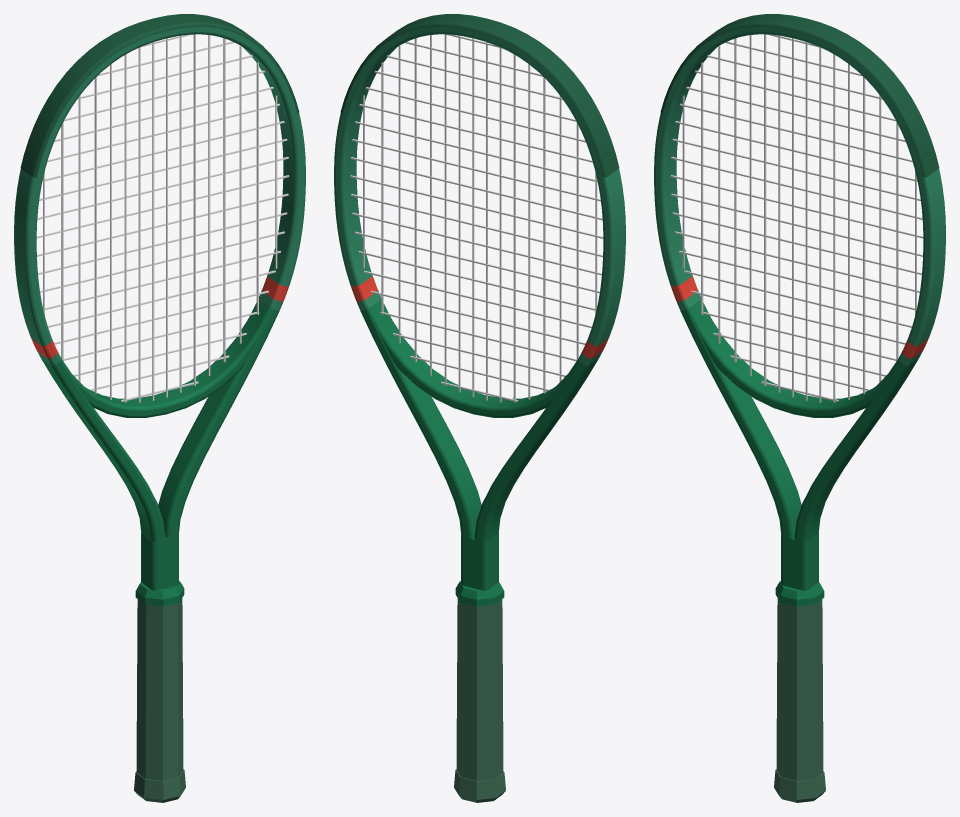
Rendered from wilson-blade-pro-100-v10.glb.
The picture shows the model from 3 angles, left to right: view 1: azimuth 30°, elevation 25°; view 2: azimuth 150°, elevation 25°; view 3: azimuth 330°, elevation 25°; orthographic projection.
Visible parts, largest first — view 1: frame, strings_mains, strings_crosses, grip, bumper, butt_cap, collar; view 2: frame, strings_mains, strings_crosses, grip, bumper, butt_cap, collar; view 3: frame, strings_mains, strings_crosses, grip, bumper, butt_cap, collar.
Boxes of the visible parts, x1,y1,x2,y2 form: frame: [14, 27, 305, 590]; strings_mains: [43, 34, 277, 402]; strings_crosses: [36, 34, 289, 401]; grip: [136, 598, 183, 780]; bumper: [20, 14, 299, 177]; butt_cap: [134, 769, 185, 802]; collar: [135, 581, 184, 606]; frame: [334, 27, 625, 590]; strings_mains: [363, 34, 597, 402]; strings_crosses: [350, 34, 603, 402]; grip: [456, 598, 503, 780]; bumper: [340, 14, 619, 177]; butt_cap: [454, 769, 505, 802]; collar: [455, 581, 504, 606]; frame: [654, 27, 945, 590]; strings_mains: [682, 34, 916, 402]; strings_crosses: [670, 34, 923, 401]; grip: [776, 598, 823, 780]; bumper: [660, 14, 939, 177]; butt_cap: [774, 769, 825, 802]; collar: [775, 581, 824, 606].
Bounding box in the file's own units: 0.264 × 0.6924 × 0.0396.
